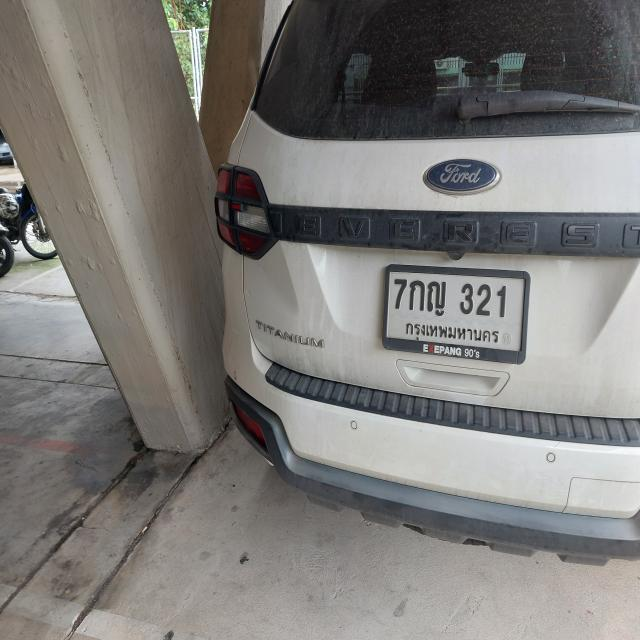license_plate: (382, 261, 531, 366)
